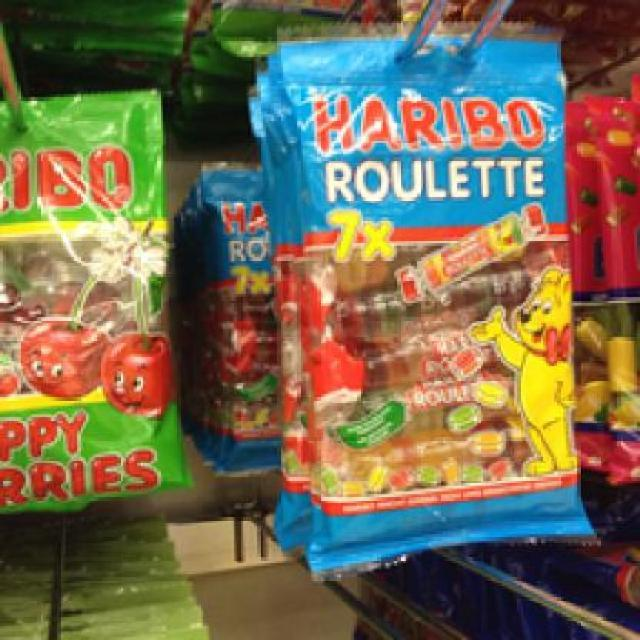Candy: (268, 37, 614, 600), (0, 80, 160, 506)
